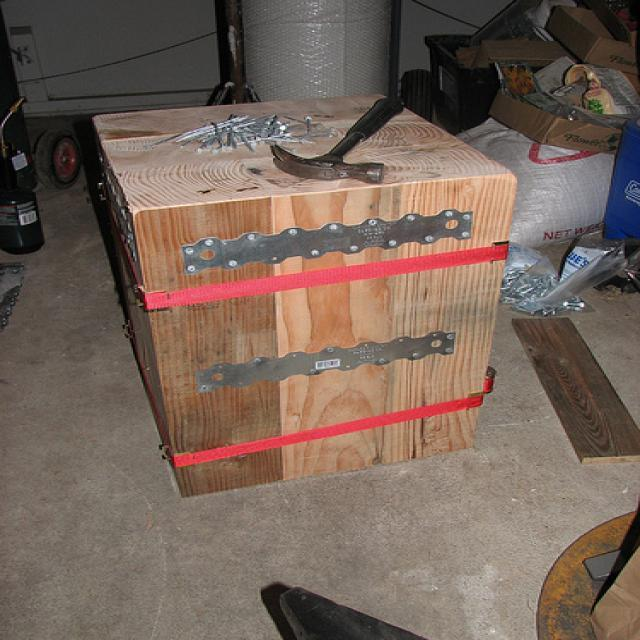hammer: (256, 90, 410, 186)
